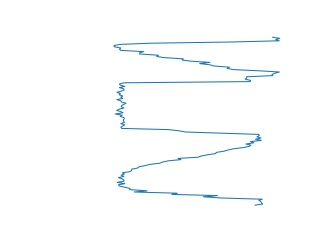distributaryChannelFill: (113, 74, 266, 143)
mouthBar: (110, 33, 283, 79)
underwaterDistributaryChannel: (114, 139, 265, 208)
